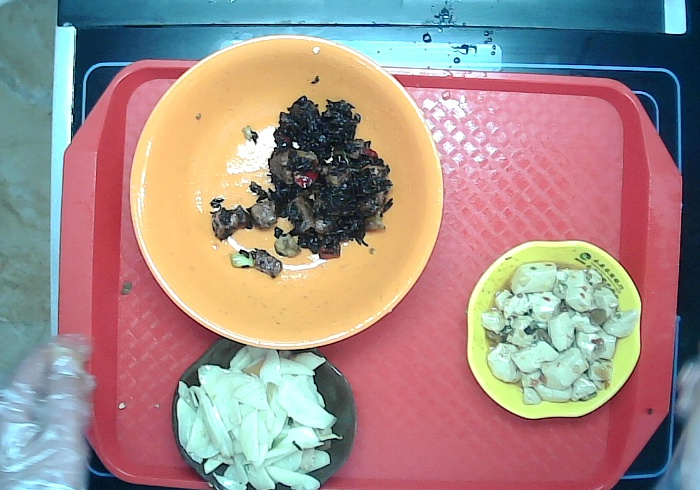YKMZ-Huang_Se_Ao_Bian_Wan: (466, 237, 644, 420)
YKMZ-Ju_Se_Tang_Wan: (124, 32, 444, 354)
YKMZ-Ka_Fei_Ao_Bian_Wan: (168, 335, 359, 490)
